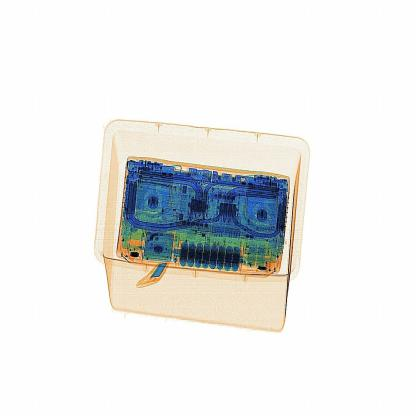pliers: (134, 259, 176, 287)
